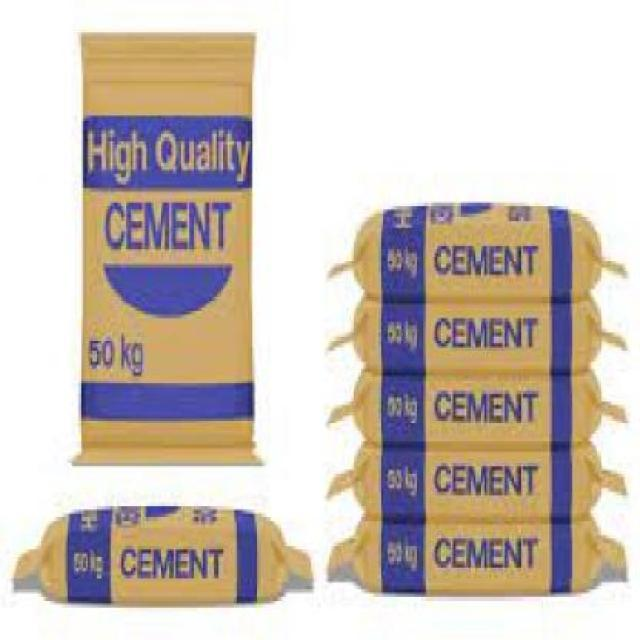gunny_bag: (76, 36, 254, 461), (353, 362, 606, 443), (352, 219, 606, 299), (31, 527, 290, 602), (352, 517, 609, 591), (358, 443, 605, 519), (354, 296, 602, 371)
